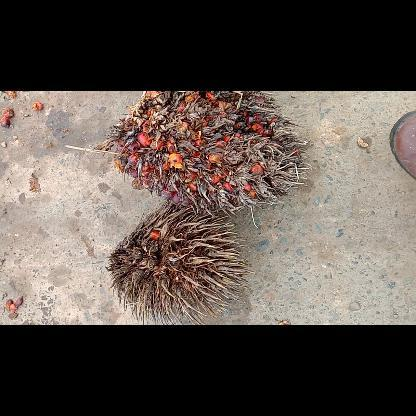Janjang kosong: (105, 202, 254, 324)
Terlalu masak: (69, 91, 309, 217)
